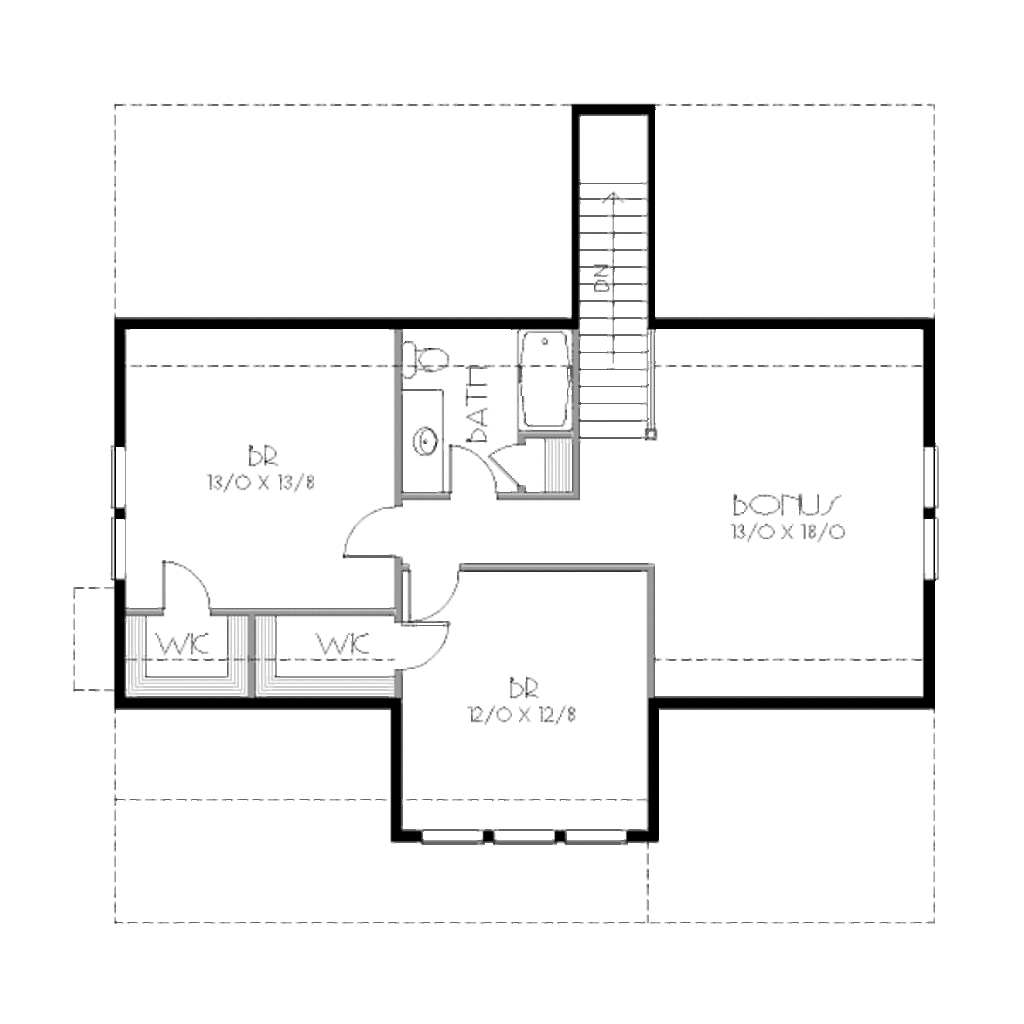door: (327, 496, 406, 560), (144, 547, 219, 614), (398, 614, 455, 685), (403, 567, 467, 625), (441, 438, 500, 500), (484, 442, 539, 489)
large_sink: (398, 338, 455, 383)
small_sink: (398, 385, 453, 494)
stairs: (568, 105, 663, 446)
tub: (513, 332, 575, 438)
window: (416, 825, 489, 847), (489, 821, 563, 842), (922, 440, 942, 511), (106, 447, 127, 513), (106, 521, 123, 583), (923, 516, 938, 578), (570, 830, 628, 842)
